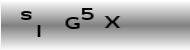5: (80, 7, 94, 21)
G: (63, 16, 80, 30)
X: (104, 14, 121, 29)
l: (36, 24, 42, 38)
s: (20, 10, 33, 21)
